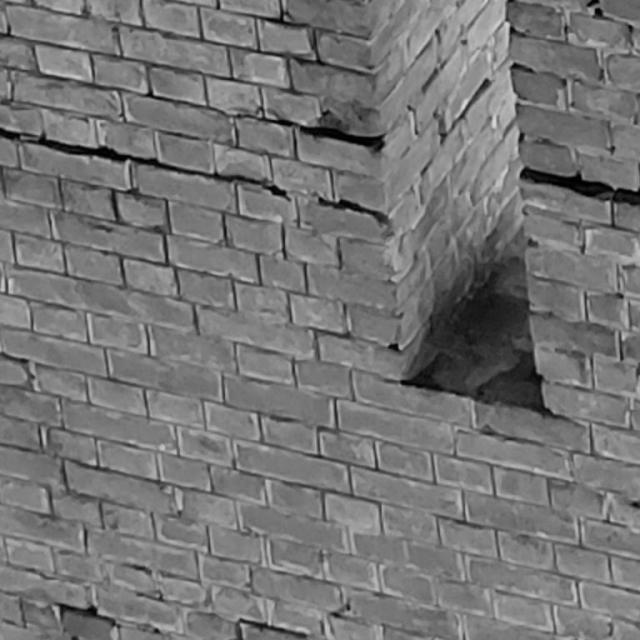crack: (1, 126, 388, 226), (521, 165, 640, 206), (264, 119, 386, 152)
